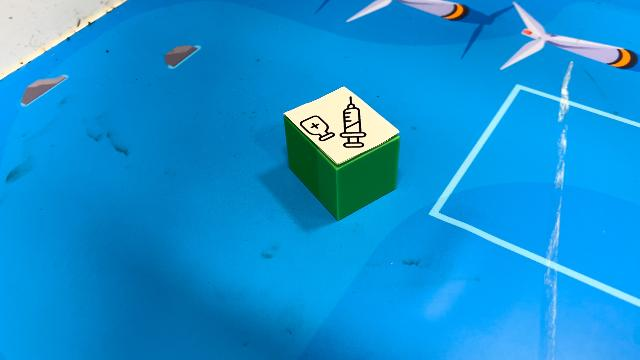syringe: (284, 86, 400, 222)
